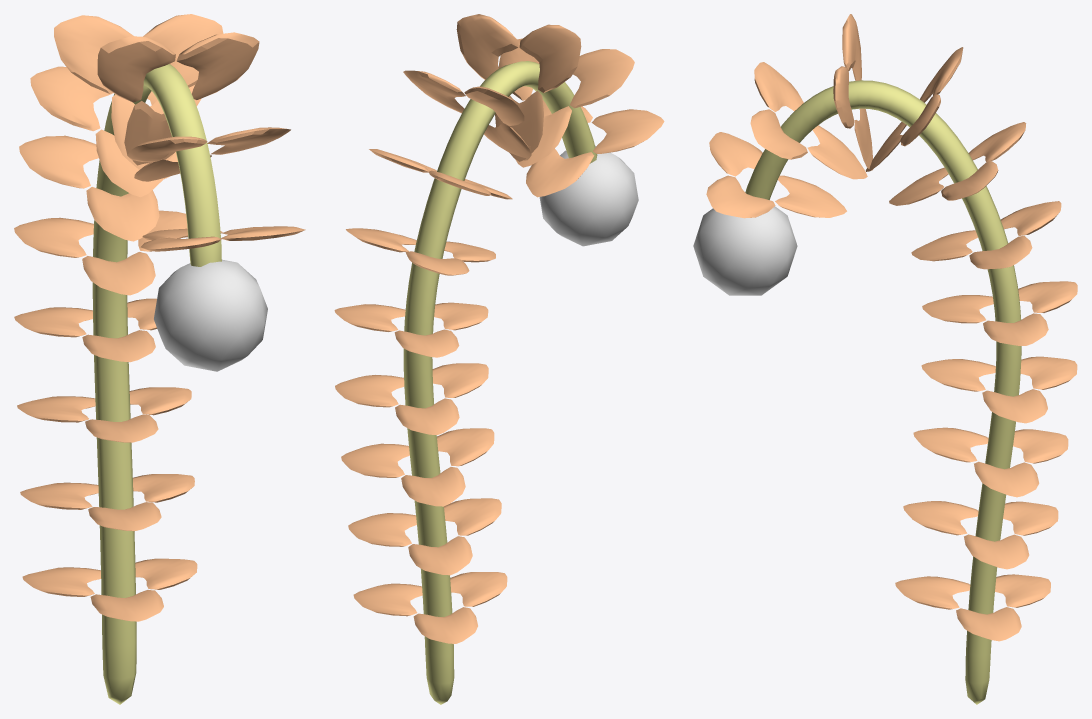
Rendered from WeirdPlantAlien.fbx.
The picture shows the model from 3 angles, left to right: view 1: azimuth 30°, elevation 25°; view 2: azimuth 150°, elevation 25°; view 3: azimuth 270°, elevation 25°; orthographic projection. The views are drawn at different scales.
Parts seen in each view (by area): view 1: Plane.001, BezierCurve, Icosphere; view 2: Plane.001, BezierCurve, Icosphere; view 3: Plane.001, BezierCurve, Icosphere.
Part boxes in pixels (x1,y1,x2,y2): Plane.001: [14, 14, 305, 621]; BezierCurve: [92, 64, 221, 704]; Icosphere: [154, 259, 267, 371]; Plane.001: [334, 14, 664, 643]; BezierCurve: [403, 61, 597, 704]; Icosphere: [539, 145, 638, 246]; Plane.001: [706, 14, 1077, 641]; BezierCurve: [745, 80, 1021, 704]; Icosphere: [693, 206, 797, 295].
Size of the model in its own units: 74.35 by 254 by 135.
